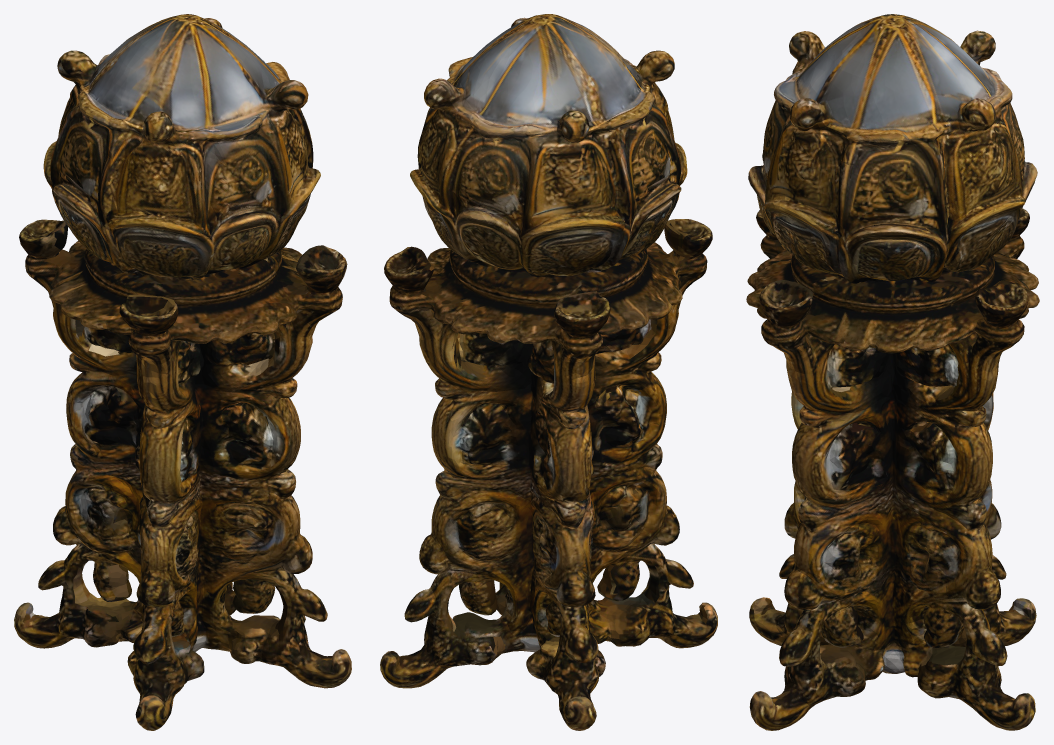
The picture shows the model from 3 angles, left to right: view 1: azimuth 30°, elevation 25°; view 2: azimuth 150°, elevation 25°; view 3: azimuth 270°, elevation 25°; orthographic projection. The views are drawn at different scales.
Parts seen in each view (by area): view 1: textured_mesh; view 2: textured_mesh; view 3: textured_mesh.
Part boxes in pixels (x1,y1,x2,y2): textured_mesh: (14,14,351,730); textured_mesh: (380,14,717,730); textured_mesh: (746,14,1039,730).
Size of the model in its own units: 0.7796 by 1.99 by 0.7926.
Materials: 1 (1 with a texture image).
